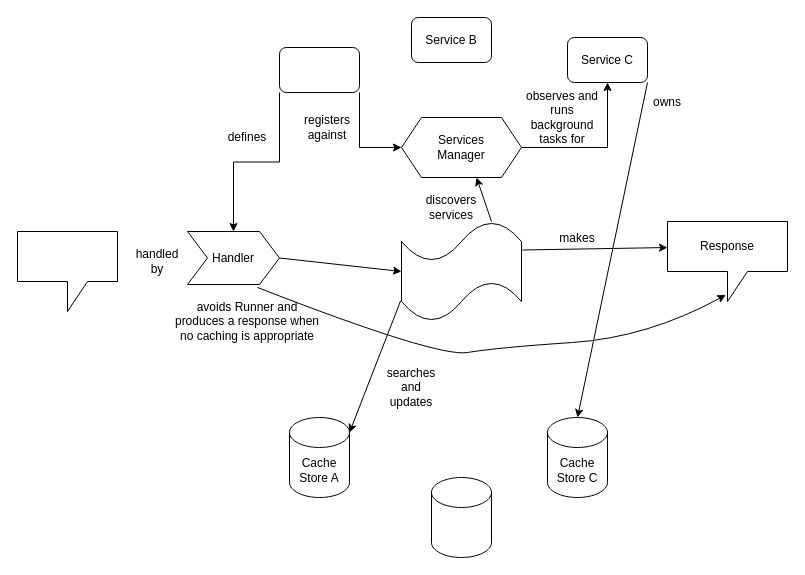
This 805x575 diagram has some shape labels left out. Here are the shapes that lost their labels. From the top down, the centre of each, then its label:
At point 319,69: "Service A".
At point 67,271: "Request".
At point 461,271: "Runner".
At point 461,517: "Cache Store B".
